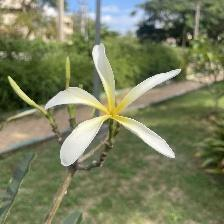champaka: (44, 43, 186, 170)
